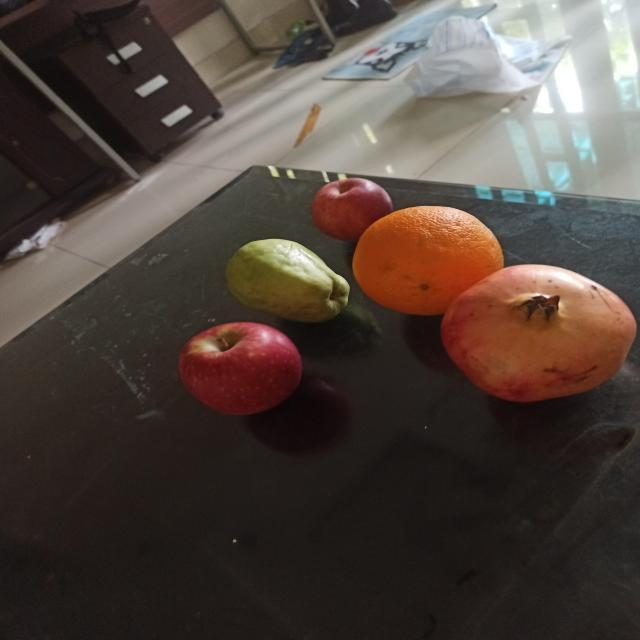apple: (177, 320, 303, 415), (312, 176, 388, 242)
